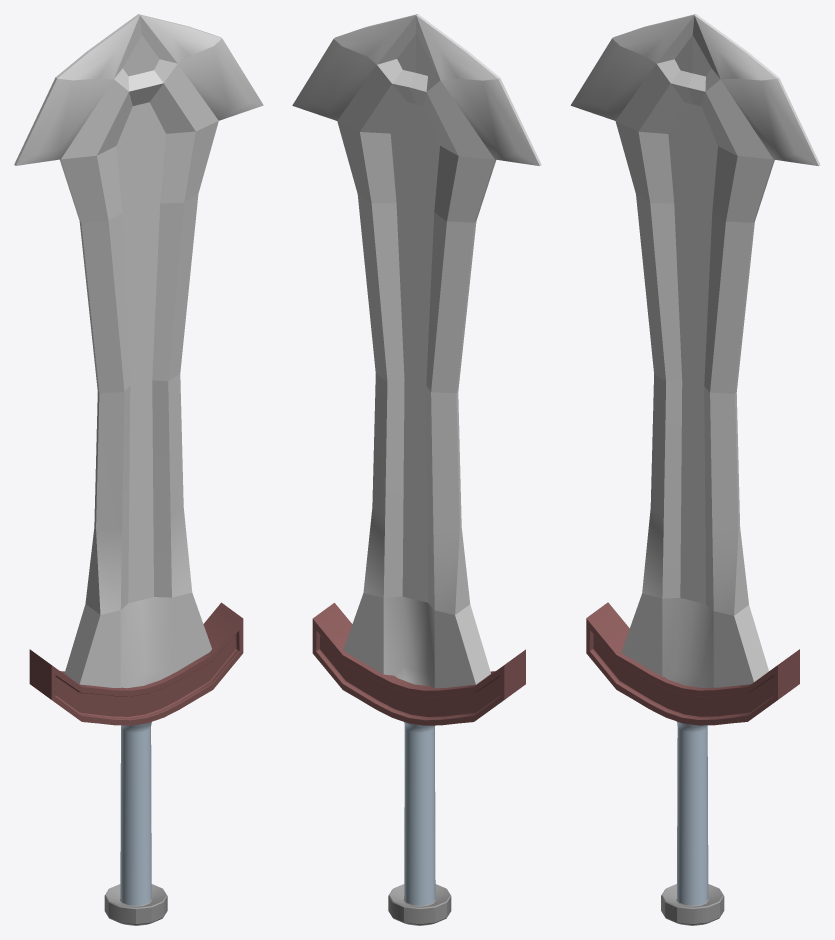
File: SM_Weapon_SwordGreat01.fbx
3 renders of one model, left to right at view 1: azimuth 30°, elevation 25°; view 2: azimuth 150°, elevation 25°; view 3: azimuth 330°, elevation 25°, orthographic.
Parts seen in each view (by area): view 1: WideGreatSword; view 2: WideGreatSword; view 3: WideGreatSword.
Boxes of the visible parts, box(x1,y1,x2,y2) form: WideGreatSword: box(14, 14, 263, 925); WideGreatSword: box(292, 14, 541, 925); WideGreatSword: box(570, 14, 820, 925).
Bounding box in the file's own units: 52.54 × 183 × 11.56.
